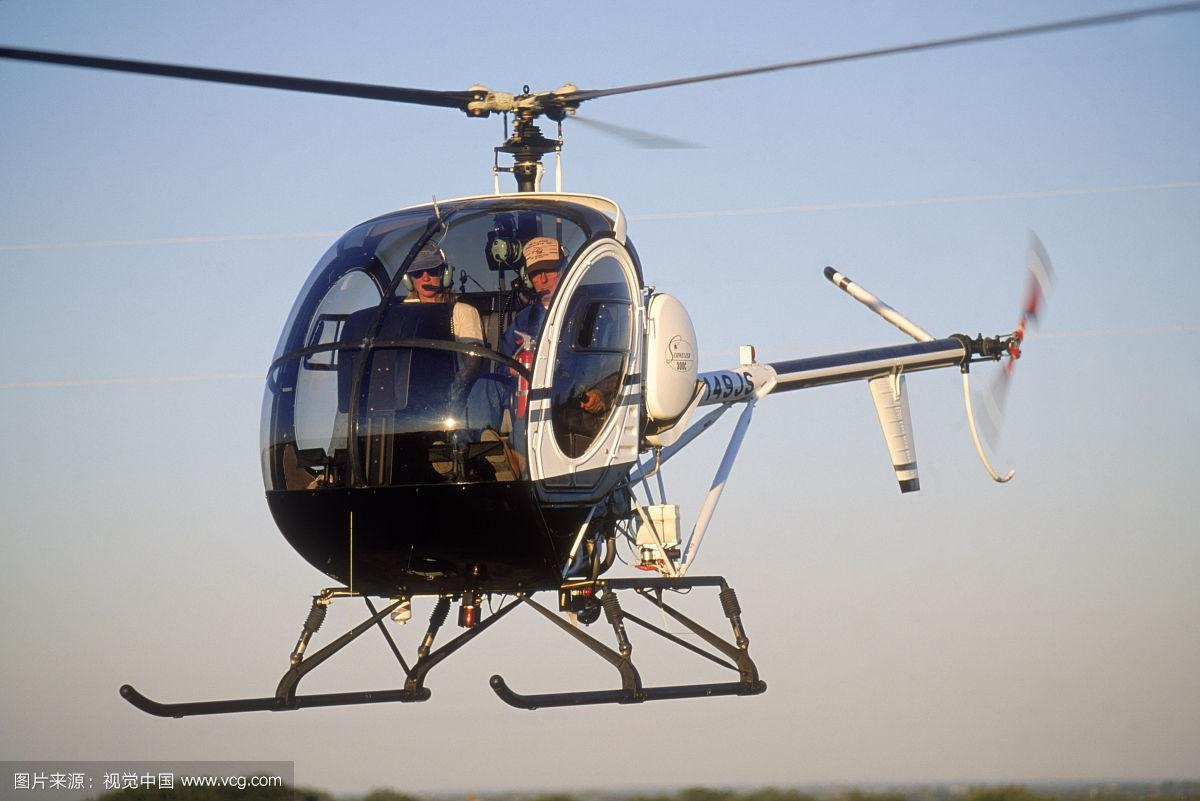airplane: (98, 22, 1065, 723)
